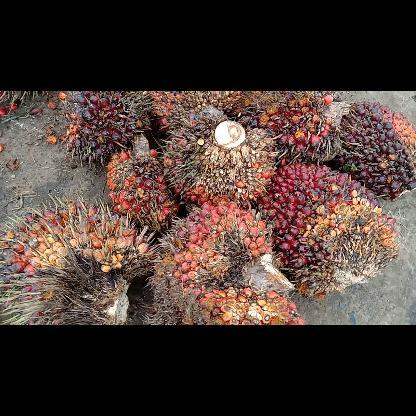TBS masak: (151, 200, 307, 324), (0, 197, 148, 322), (257, 160, 395, 286), (162, 107, 282, 205), (236, 92, 346, 166), (336, 102, 414, 202), (104, 134, 182, 228), (67, 91, 157, 161), (150, 91, 236, 127)
